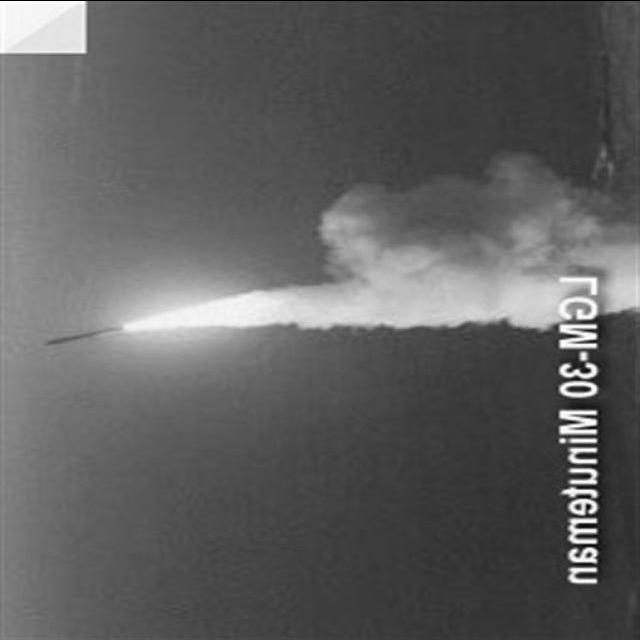missile: (29, 318, 130, 351)
